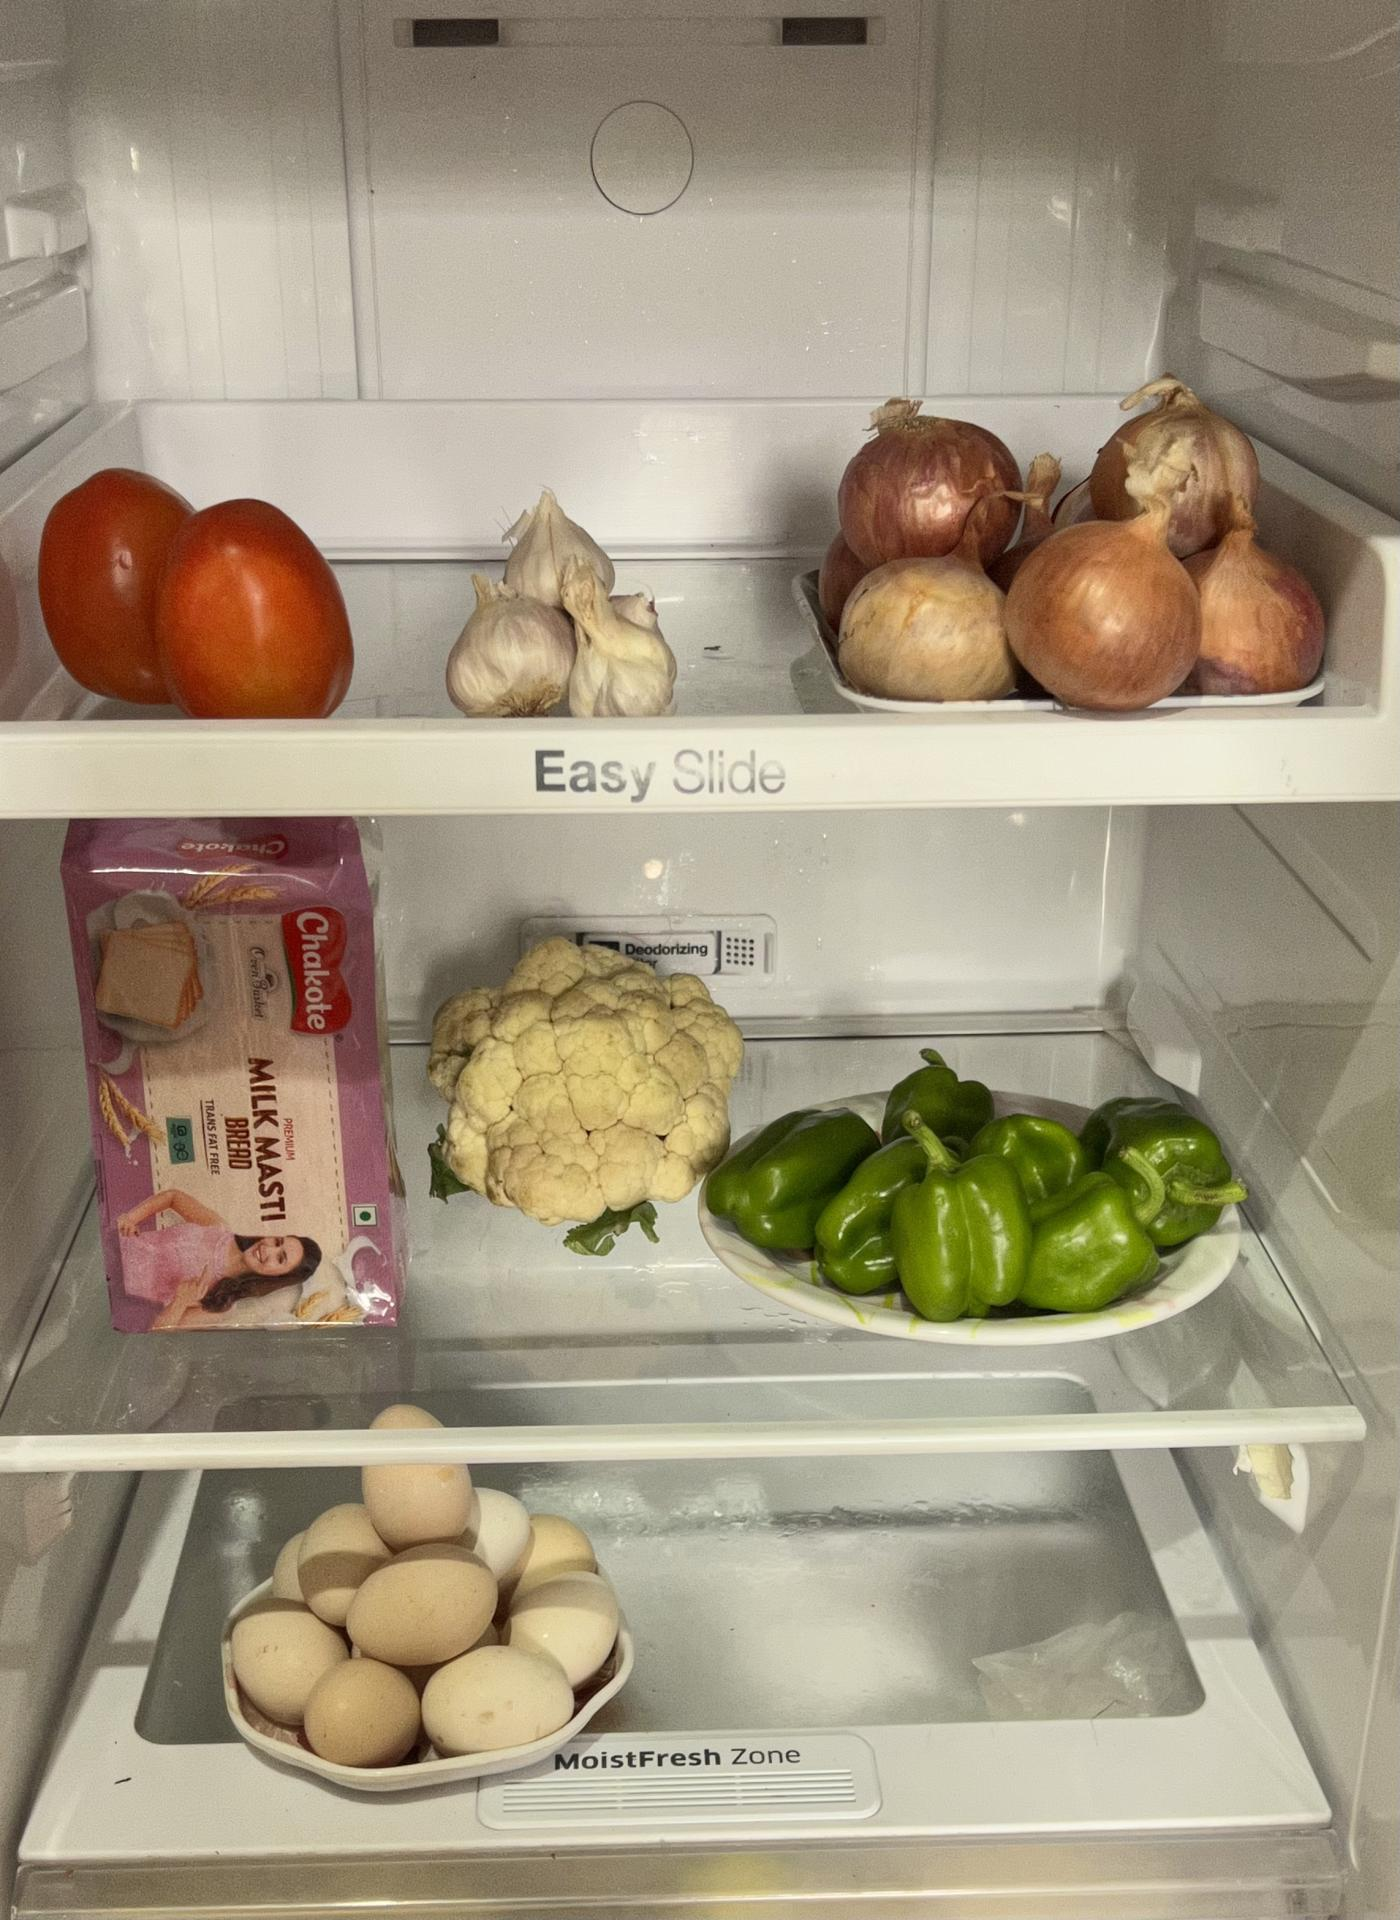bread: (58, 821, 404, 1333)
capsicum: (728, 1058, 1242, 1307)
cauliflower: (441, 933, 719, 1215)
egg: (231, 1468, 614, 1766)
garlic: (441, 473, 669, 716)
onion: (810, 388, 1328, 699)
tomato: (42, 470, 359, 727)
